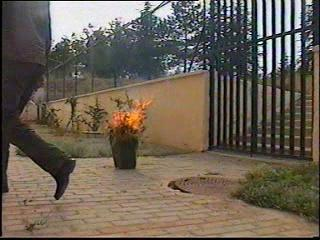fire: (113, 87, 156, 132)
